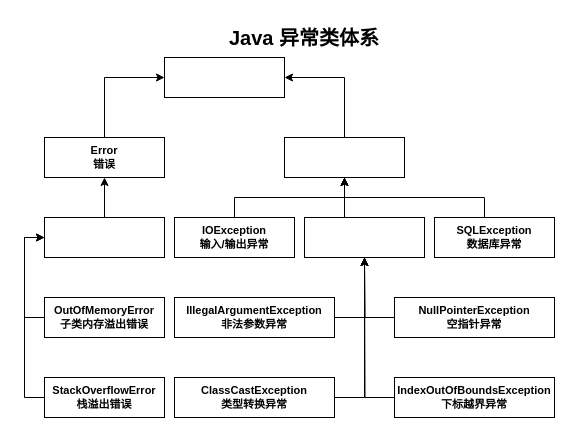
The diagram is 582 pixels wide and 435 high, and some of its shapes have lost their labels. Here are the shapes that lost their labels. From the top down, the box of each, then its label:
(164, 56, 284, 98): Throwable
(284, 136, 404, 178): Exception 异常
(44, 216, 164, 258): VirtualMachineError 虚拟机错误
(304, 216, 424, 258): RuntimeException 运行时异常
